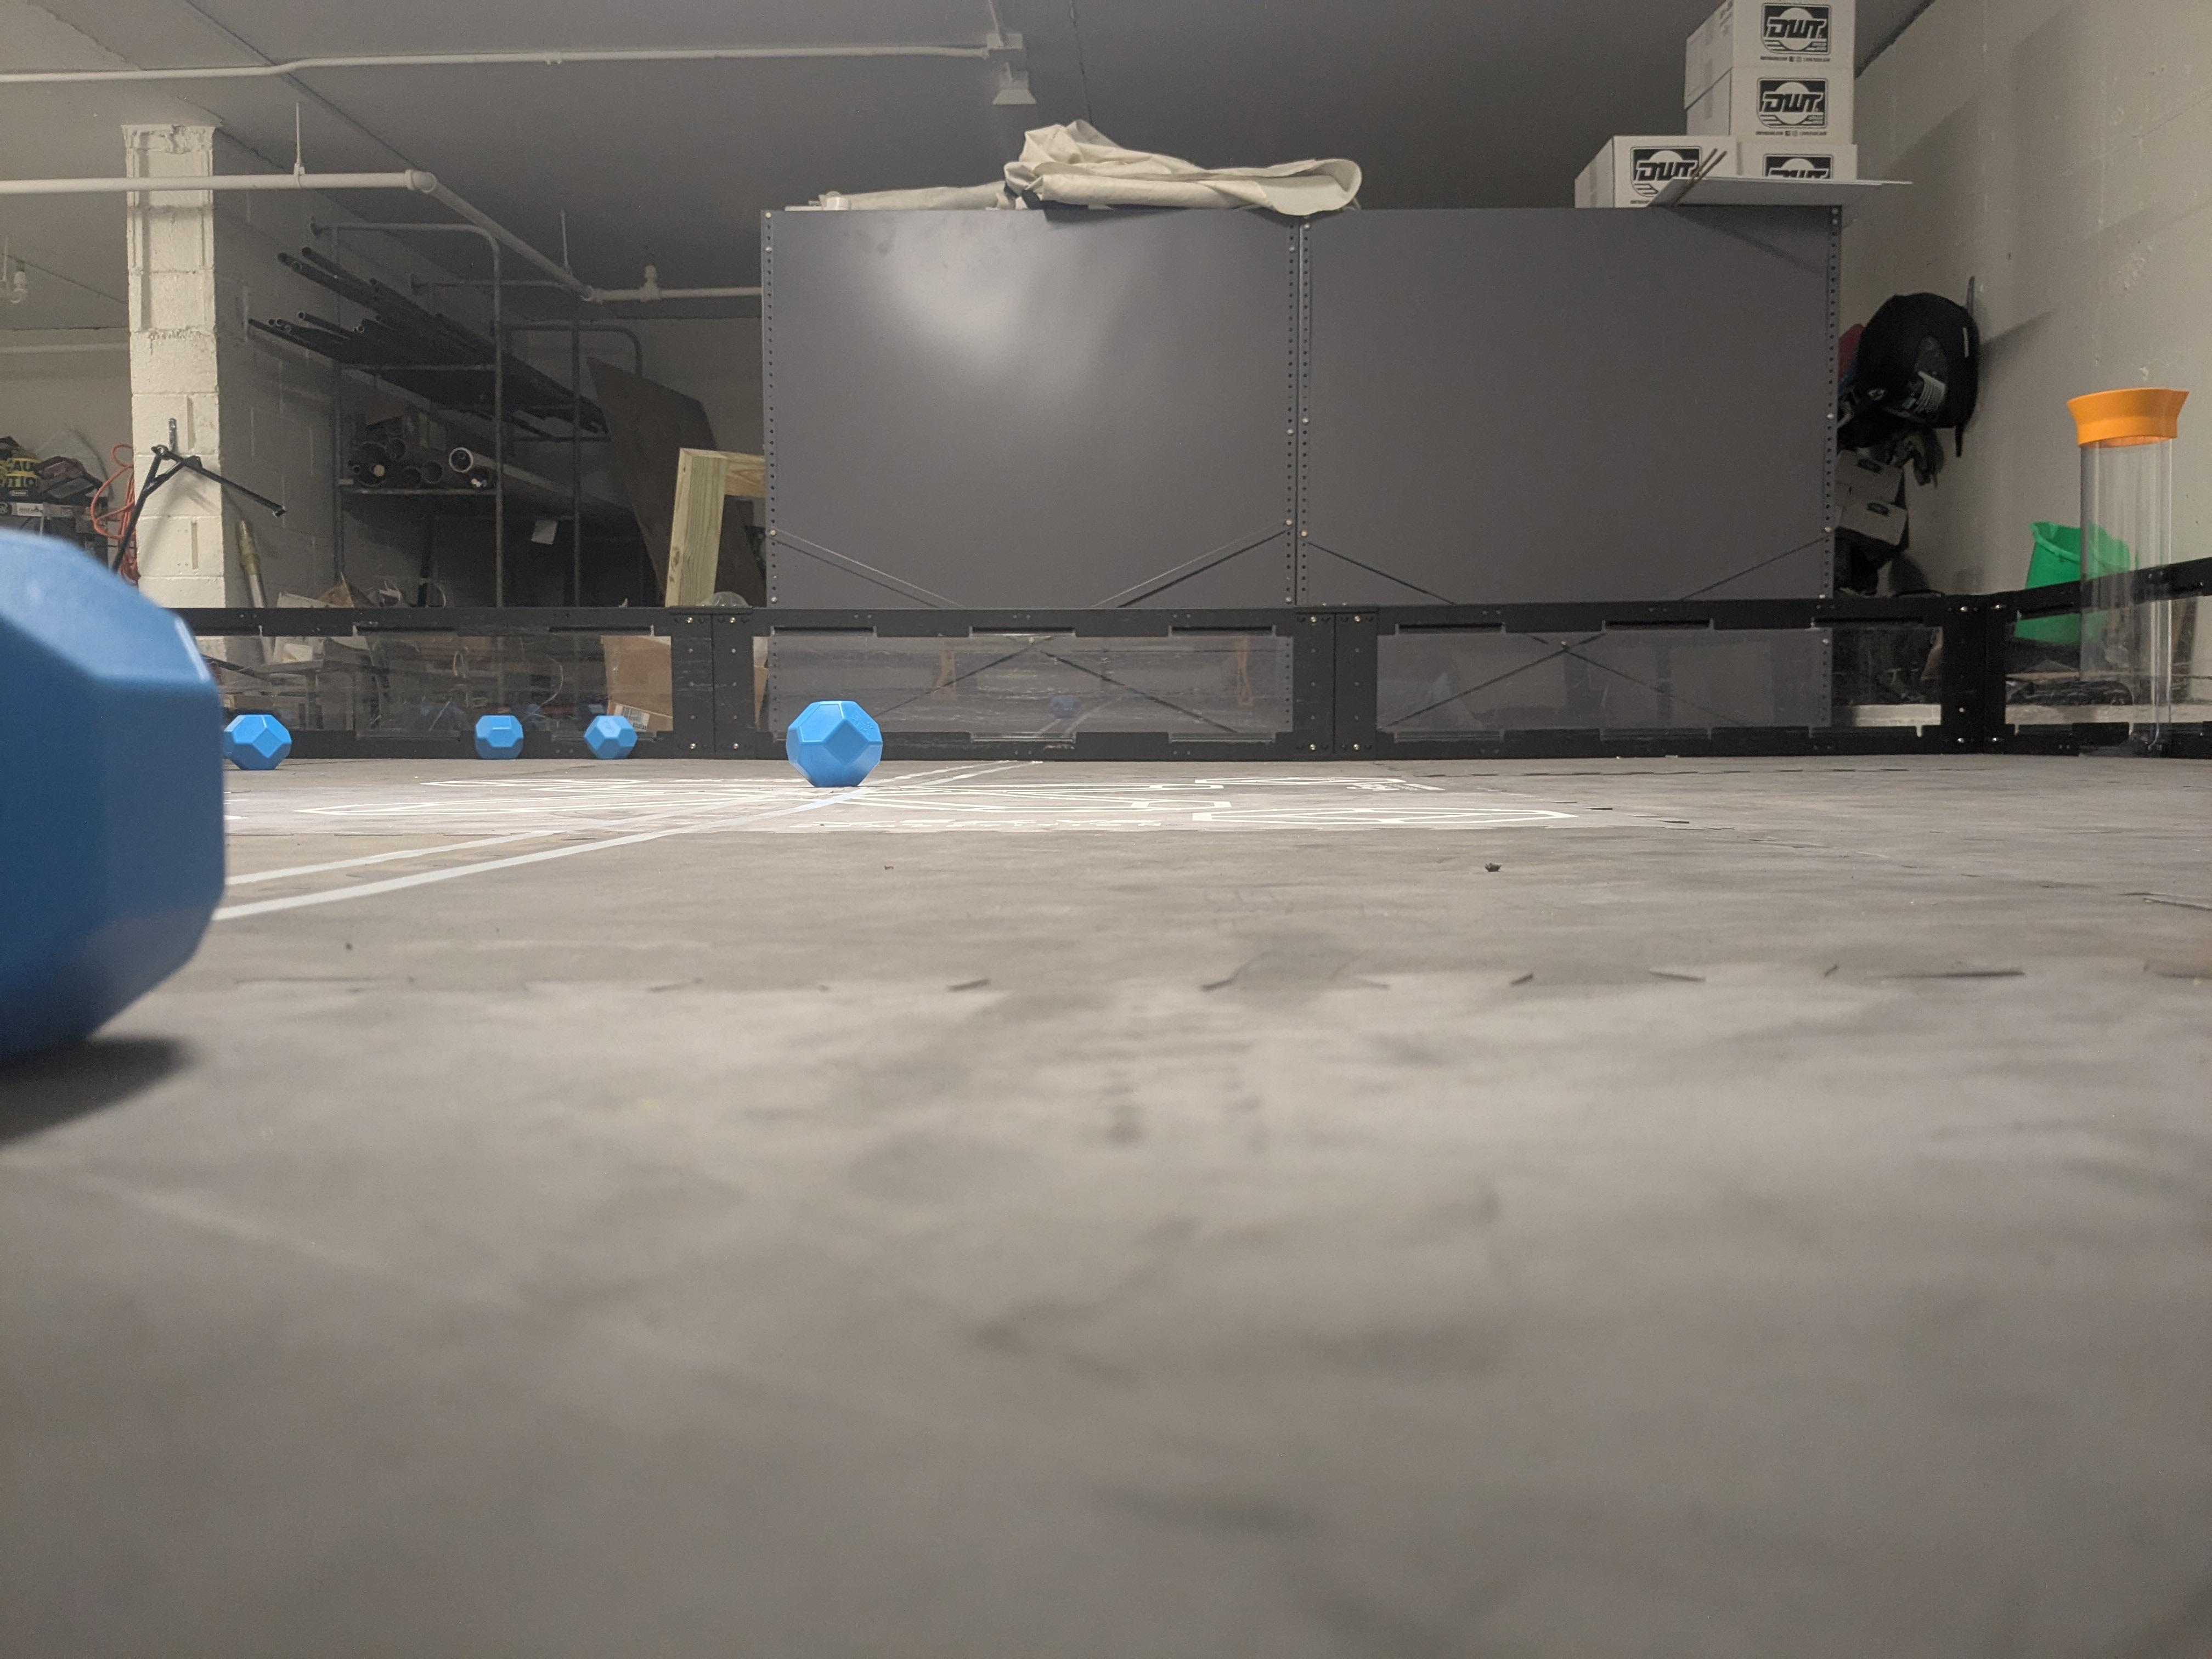Vex-Pieces-BLUE: (3, 528, 239, 1060), (787, 702, 881, 784), (223, 713, 291, 770), (583, 714, 637, 760), (474, 714, 523, 760)
